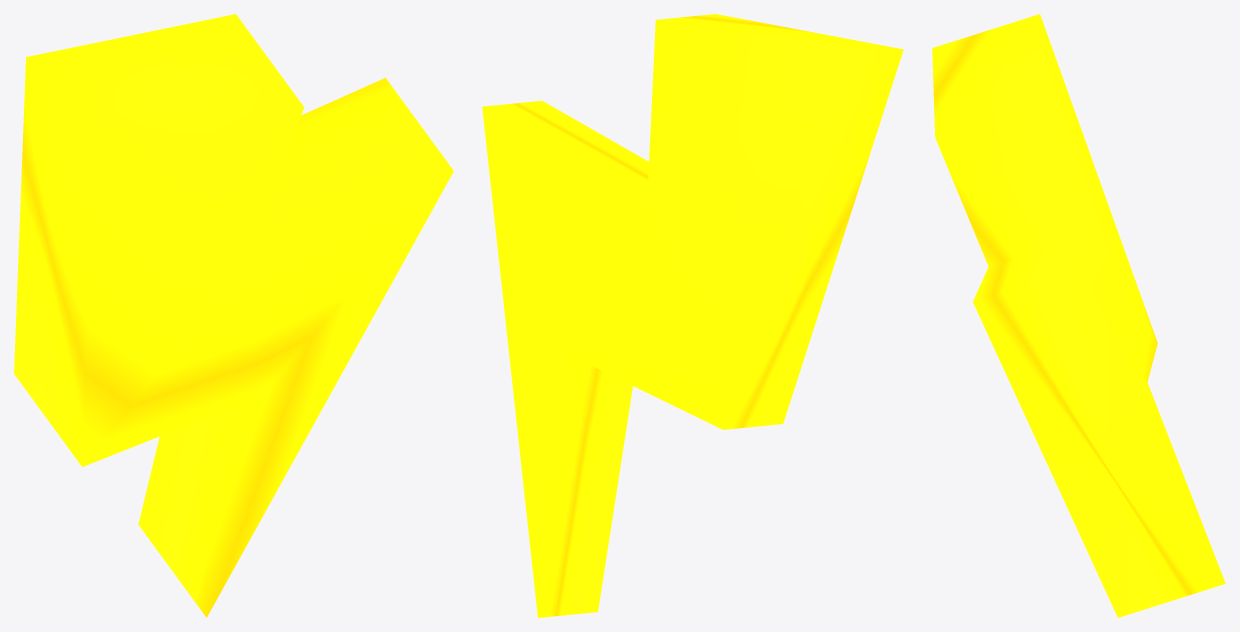
The model's file is MeshAnimator.fbx.
The picture shows the model from 3 angles, left to right: view 1: azimuth 30°, elevation 25°; view 2: azimuth 150°, elevation 25°; view 3: azimuth 270°, elevation 25°; orthographic projection. The views are drawn at different scales.
Visible parts, largest first — view 1: speed_thunder; view 2: speed_thunder; view 3: speed_thunder.
Boxes of the visible parts, <box> form: speed_thunder: <box>14,14,453,617</box>; speed_thunder: <box>482,14,903,617</box>; speed_thunder: <box>932,14,1225,617</box>.
Size of the model in its own units: 1 by 1.63 by 0.8394.
